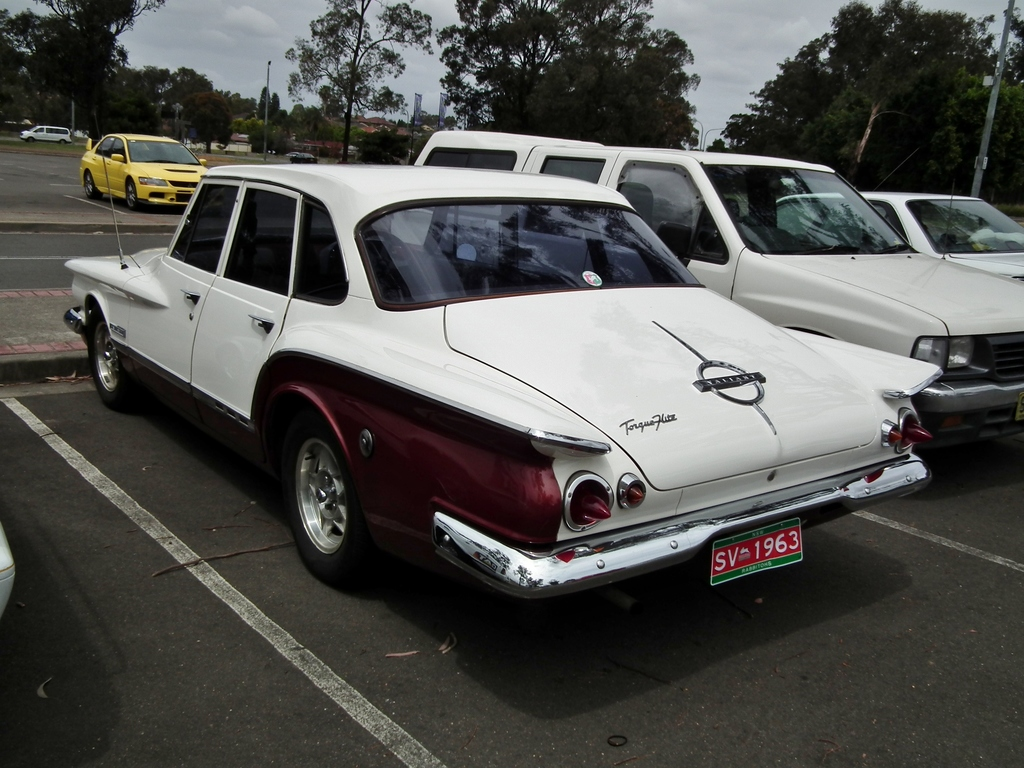Car: (409, 129, 1023, 469), (766, 185, 1023, 286), (76, 131, 218, 211), (17, 120, 87, 139)
